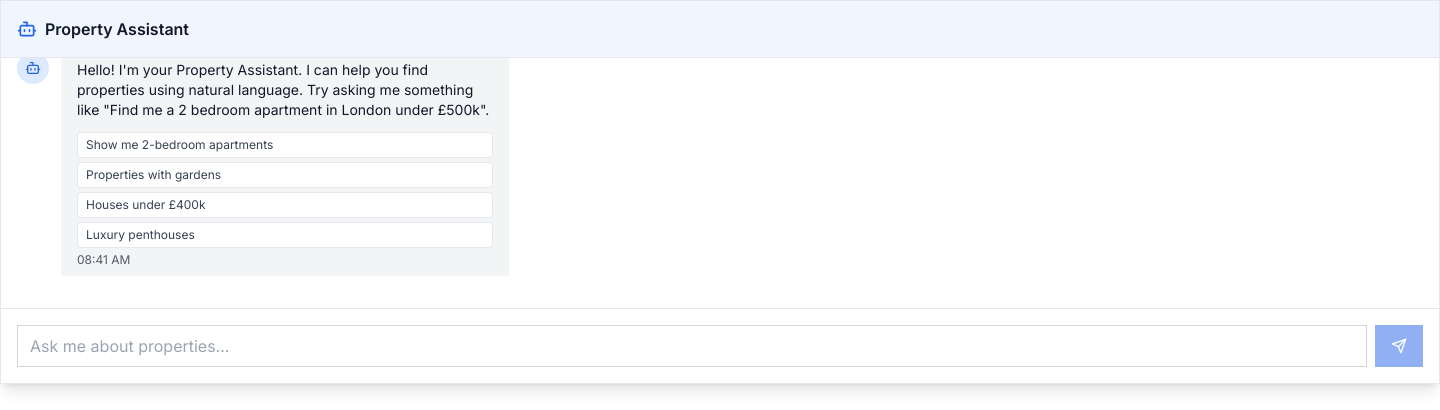
ChatBot TDD Implementation › REFACTOR Phase: Enhanced features › should maintain session context
(page scrolled)
// Send first message
Type "First message" into the field named "message".
click(692, 346); type("First message")  # box [17,325,1367,367]
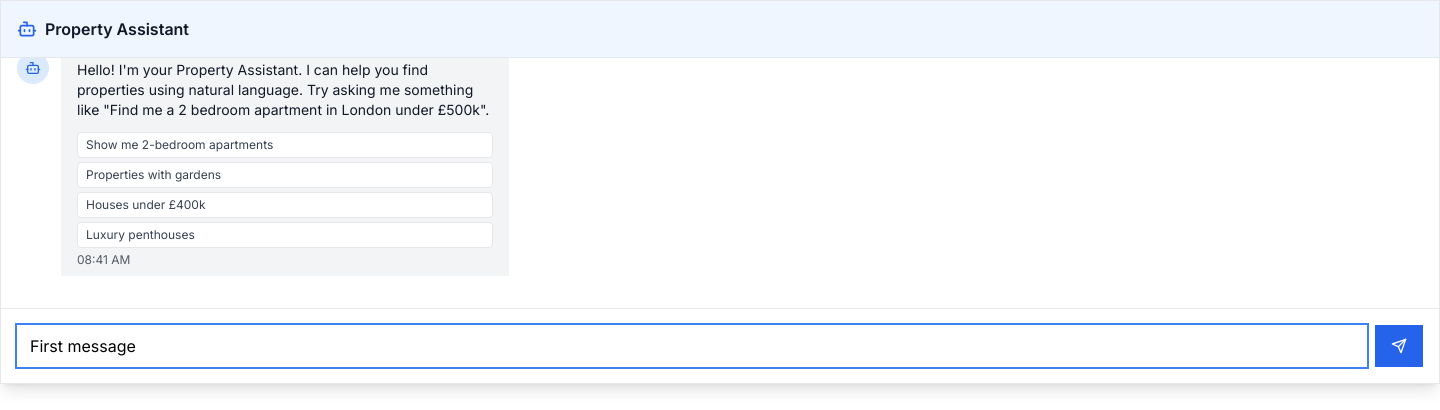
Click the button named "send".
click(1399, 346)  # box [1375,325,1423,367]
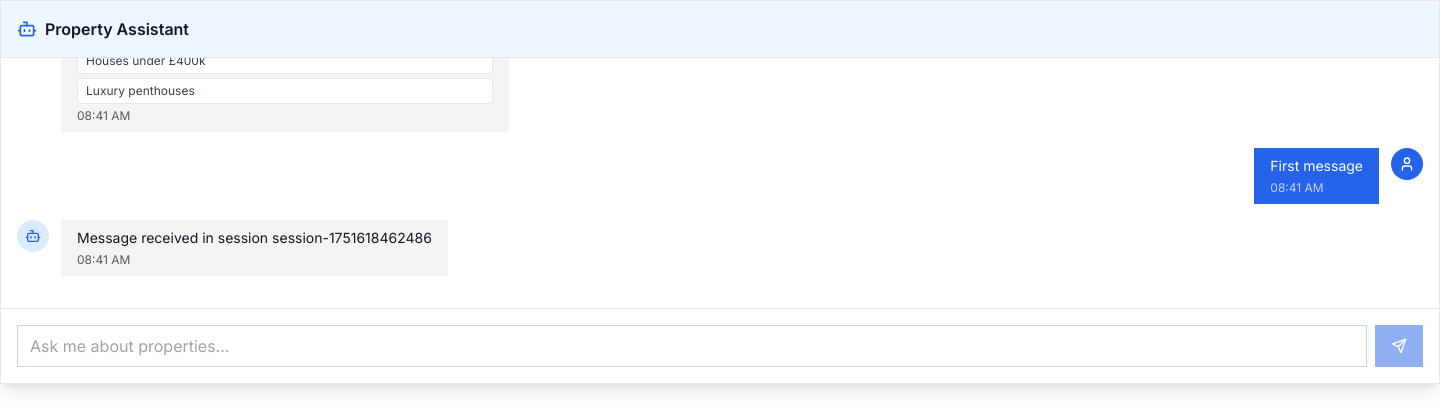
expect the text "Message received in session session-1751618462486" is shown: met, box [77,228,432,248]
// Send second message - should use same session
Type "Second message" into the field named "message".
click(692, 346); type("Second message")  # box [17,325,1367,367]
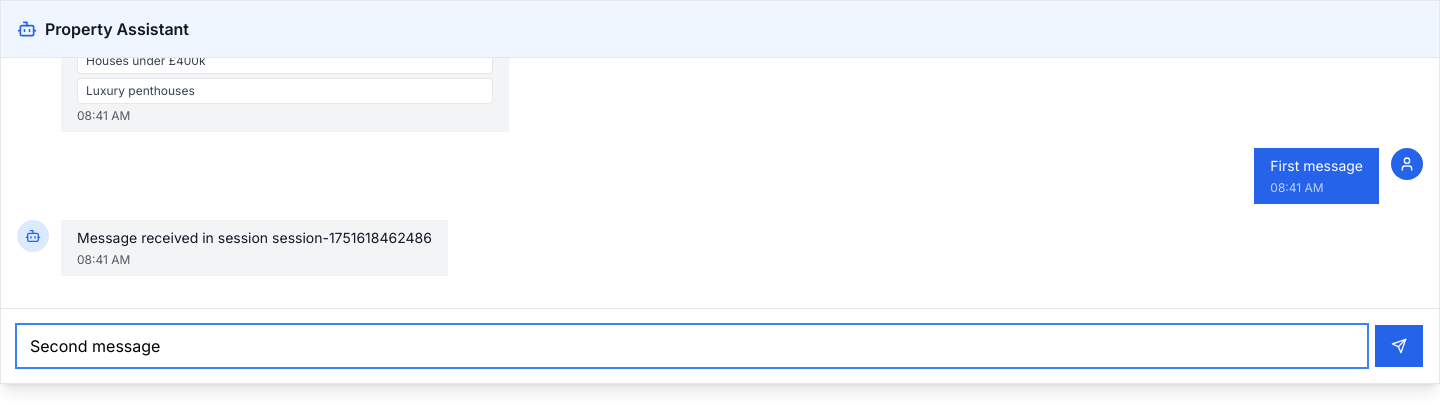
Click the button named "send".
click(1399, 346)  # box [1375,325,1423,367]
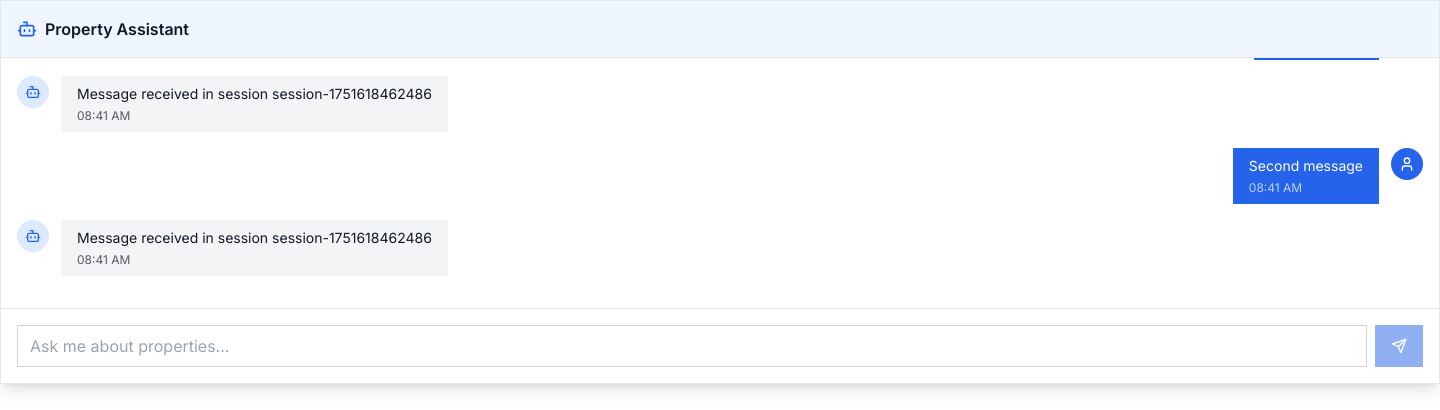
expect the text "Message received in session session-1751618462486" is shown 2 times: met, box [77,84,432,104]; [77,228,432,248]
